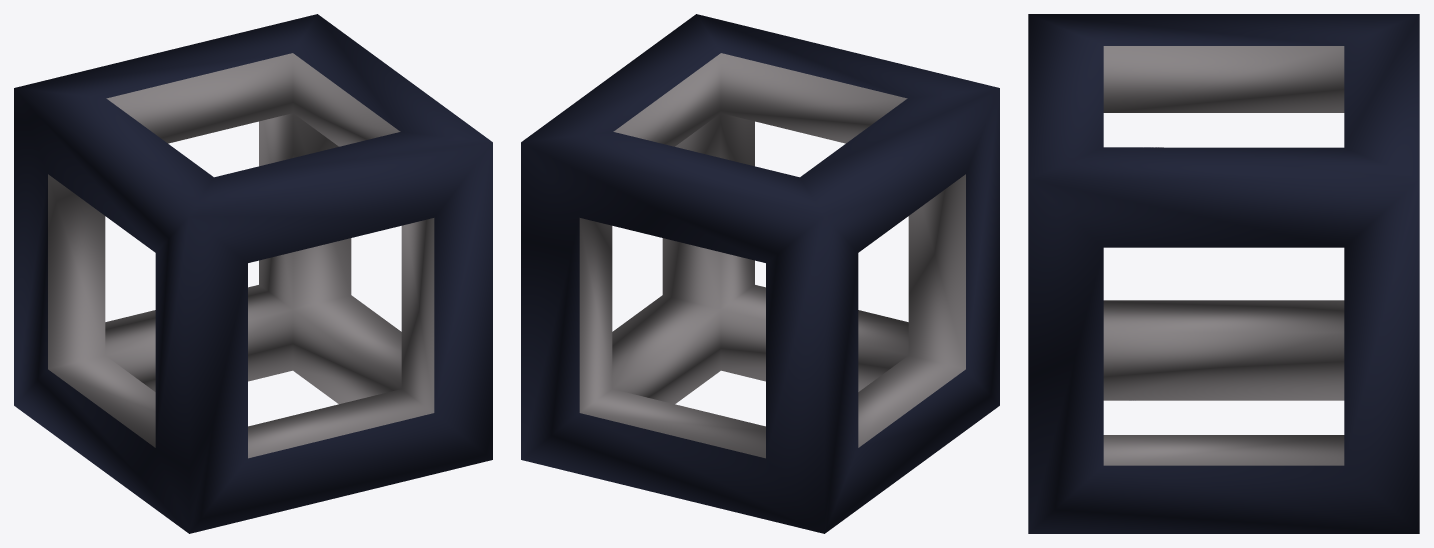
Rendered from pickup-model.fbx.
3 renders of one model, left to right at view 1: azimuth 30°, elevation 25°; view 2: azimuth 150°, elevation 25°; view 3: azimuth 270°, elevation 25°, orthographic. The views are drawn at different scales.
Visible parts, largest first — view 1: Cube; view 2: Cube; view 3: Cube.
Part boxes in pixels (box(x1,y1,x2,y2)): Cube: box(14, 14, 492, 533); Cube: box(521, 14, 999, 533); Cube: box(1028, 14, 1419, 533).
Bounding box in the file's own units: 2 × 2 × 2.
